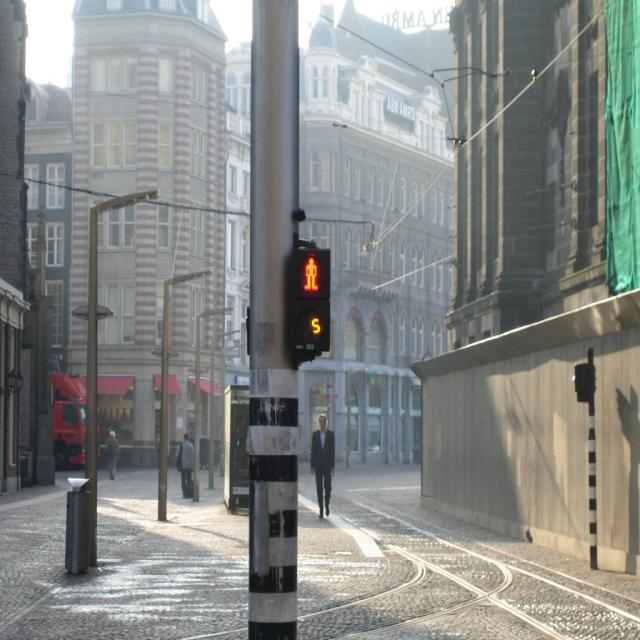traffic light: (288, 241, 333, 345)
